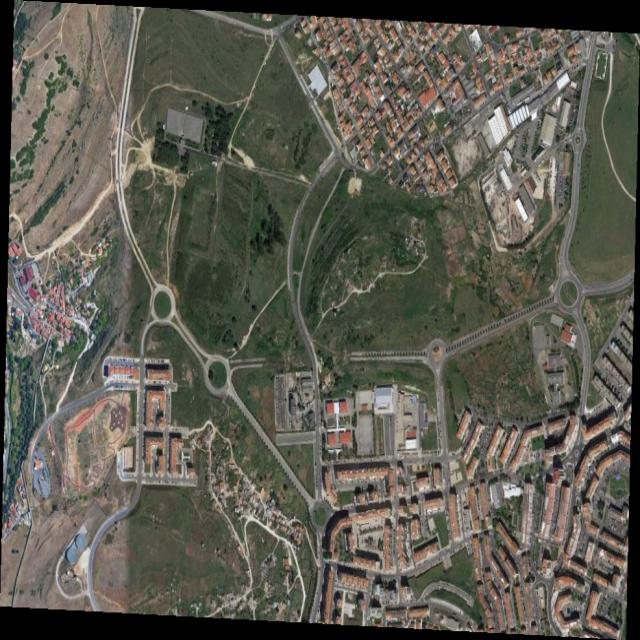storage-tank: (76, 535, 87, 550), (68, 548, 78, 564)
